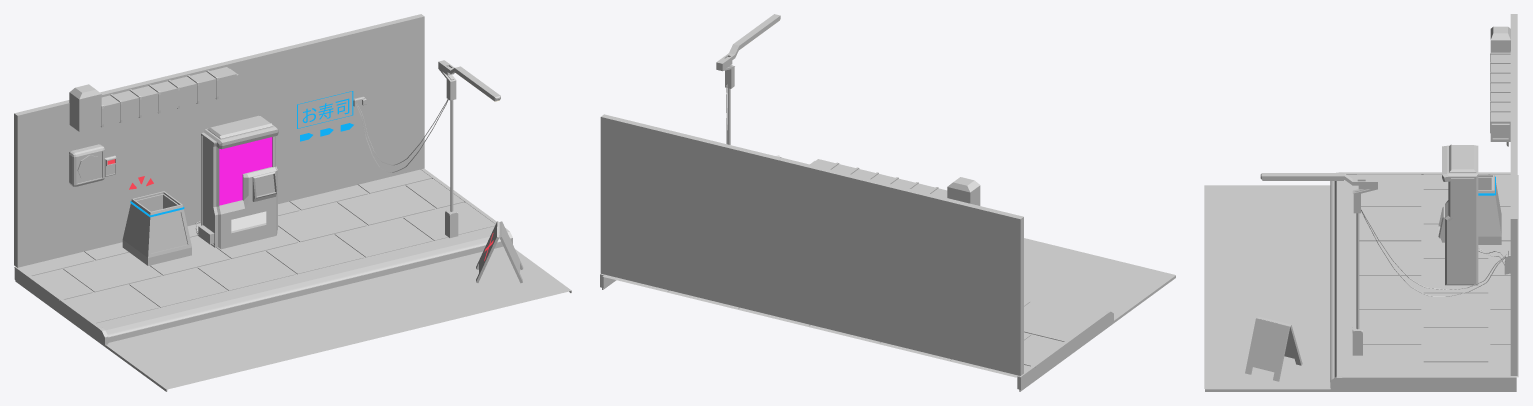
Rendered from vendingMachine_scene.glb.
The picture shows the model from 3 angles, left to right: view 1: azimuth 30°, elevation 25°; view 2: azimuth 150°, elevation 25°; view 3: azimuth 270°, elevation 25°; orthographic projection. The views are drawn at different scales.
Parts seen in each view (by area): view 1: mergeGeo, screen; view 2: mergeGeo; view 3: mergeGeo.
Part boxes in pixels (x1,y1,x2,y2): mergeGeo: (14,14,571,391); screen: (219,137,272,205); mergeGeo: (600,14,1175,391); mergeGeo: (1204,14,1518,391).
Bounding box in the file's own units: 25.27 × 11.1 × 16.31.
